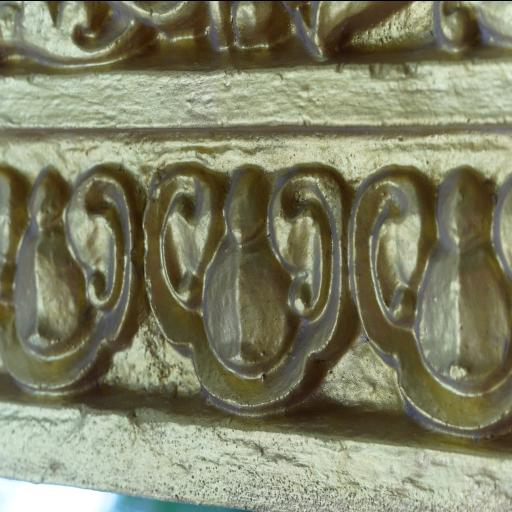la: (137, 152, 355, 414), (346, 144, 512, 454), (0, 152, 142, 409)
